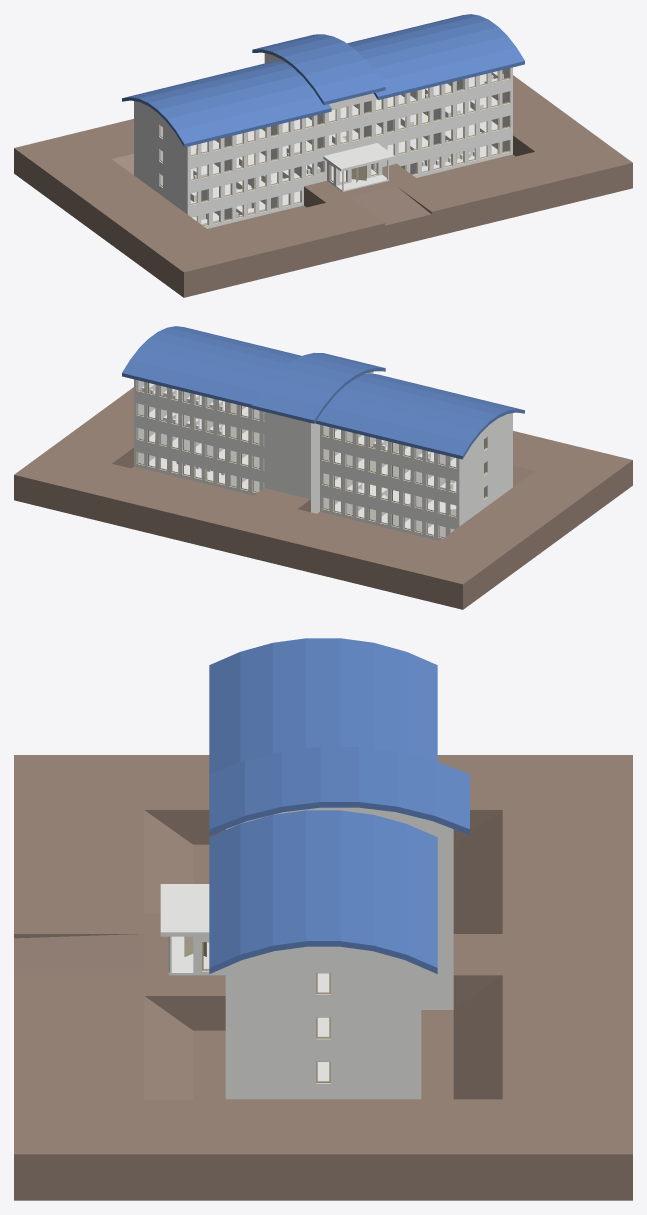
The model's file is AC20-Institute-Var-2.glb.
The picture shows the model from 3 angles, top to bottom: view 1: azimuth 30°, elevation 25°; view 2: azimuth 150°, elevation 25°; view 3: azimuth 270°, elevation 25°; orthographic projection. The views are drawn at different scales.
Parts seen in each view (by area): view 1: 1b0aQcLSb6KP4cEKR_kZZp, 2udBPbKibCZ8zbfpJmtDTM, 2V1MCFZRf1GA2ZyRufjYwX, 2Og5$70yb1DxR1TY1w8bzN, 3x663a8XD65viEHNLVdTxd, 3qT9lE$bTCQB_T41jFK_q6, 2oOoWKmmfChQTLCBzuB3$b, 3nHMcJ8q56uR8twwvBap_b, 3EtzNx_Z1BD9$bnmCd_7Ak, 3Kn4W2ZqD4K8KzX7iS3xhj, 01Hsj8Zoj47f3xDgoQzQH_, 3QoJ6BxnbEJAsAxl5gQcR_ (+18 smaller); view 2: 1b0aQcLSb6KP4cEKR_kZZp, 01DPZ9SBn5r9Sivd0bV8Ar, 1GL3Bl4yrCY9XKlcdMQiXb, 1r7dVjs_50zw9skBo0gwIq, 3EYxooj415QgvrtcQsy2Kh, 3BIJVubgnERQcs0rJzA8XO, 2LES77BC56KQ3R7uNhrxe2, 0hEXM06OrA5gv_ZOu0dPhm, 1sX1eJEdn4tx6WnOEIL8As, 0aqwE82KP5aAe5kL$$RBxu, 0NhW4VLIbBiuXKiyGrq3kz, 1gOmYslDr1suTYoJuY1bx$ (+24 smaller); view 3: 1b0aQcLSb6KP4cEKR_kZZp, 3qMdsXfXrAvuL60mUR_8Vj, 0FQY4AQwf2dup5RArZ6ZOG, 1urUcYP71DIf1u38ogU1RV, 2j5_0TlNP02vq$h$fhXZI2, 1m13_kW2X8DhPK7Uom15kV, 03TjDzhOTFX9jbLMrZ04Ko, 01Q5XSApT1A8MVwFMrw27s, 1sX1eJEdn4tx6WnOEIL8As, 3qT9lE$bTCQB_T41jFK_q6, 1GL3Bl4yrCY9XKlcdMQiXb, 2Og5$70yb1DxR1TY1w8bzN (+20 smaller).
Part boxes in pixels (box(x1,y1,x2,y2)): 1b0aQcLSb6KP4cEKR_kZZp: box(14, 75, 632, 297); 2udBPbKibCZ8zbfpJmtDTM: box(187, 88, 512, 188); 2V1MCFZRf1GA2ZyRufjYwX: box(187, 67, 512, 164); 2Og5$70yb1DxR1TY1w8bzN: box(134, 97, 512, 191); 3x663a8XD65viEHNLVdTxd: box(175, 96, 331, 147); 3qT9lE$bTCQB_T41jFK_q6: box(373, 47, 524, 100); 2oOoWKmmfChQTLCBzuB3$b: box(189, 136, 512, 228); 3nHMcJ8q56uR8twwvBap_b: box(187, 158, 326, 213); 3EtzNx_Z1BD9$bnmCd_7Ak: box(134, 74, 512, 167); 3Kn4W2ZqD4K8KzX7iS3xhj: box(166, 84, 317, 132); 01Hsj8Zoj47f3xDgoQzQH_: box(376, 112, 512, 167); 3QoJ6BxnbEJAsAxl5gQcR_: box(134, 121, 512, 215); 1b0aQcLSb6KP4cEKR_kZZp: box(14, 387, 632, 609); 01DPZ9SBn5r9Sivd0bV8Ar: box(315, 407, 471, 459); 1GL3Bl4yrCY9XKlcdMQiXb: box(122, 359, 261, 407); 1r7dVjs_50zw9skBo0gwIq: box(320, 469, 459, 525); 3EYxooj415QgvrtcQsy2Kh: box(320, 445, 459, 500); 3BIJVubgnERQcs0rJzA8XO: box(134, 400, 264, 453); 2LES77BC56KQ3R7uNhrxe2: box(134, 424, 264, 477); 0hEXM06OrA5gv_ZOu0dPhm: box(326, 396, 480, 444); 1sX1eJEdn4tx6WnOEIL8As: box(130, 348, 270, 391); 0aqwE82KP5aAe5kL$$RBxu: box(320, 425, 459, 476); 0NhW4VLIbBiuXKiyGrq3kz: box(335, 386, 489, 433); 1gOmYslDr1suTYoJuY1bx$: box(134, 379, 264, 429); 1b0aQcLSb6KP4cEKR_kZZp: box(14, 755, 632, 1200); 3qMdsXfXrAvuL60mUR_8Vj: box(225, 1012, 421, 1052); 0FQY4AQwf2dup5RArZ6ZOG: box(225, 968, 421, 1008); 1urUcYP71DIf1u38ogU1RV: box(225, 1057, 421, 1096); 2j5_0TlNP02vq$h$fhXZI2: box(306, 810, 340, 946); 1m13_kW2X8DhPK7Uom15kV: box(272, 810, 306, 950); 03TjDzhOTFX9jbLMrZ04Ko: box(340, 810, 374, 950); 01Q5XSApT1A8MVwFMrw27s: box(240, 815, 273, 959); 1sX1eJEdn4tx6WnOEIL8As: box(373, 815, 406, 959); 3qT9lE$bTCQB_T41jFK_q6: box(209, 824, 242, 973); 1GL3Bl4yrCY9XKlcdMQiXb: box(404, 824, 437, 973); 2Og5$70yb1DxR1TY1w8bzN: box(160, 884, 453, 1056).
Size of what is drawn, in the model's own units: 58 by 15.35 by 38.
